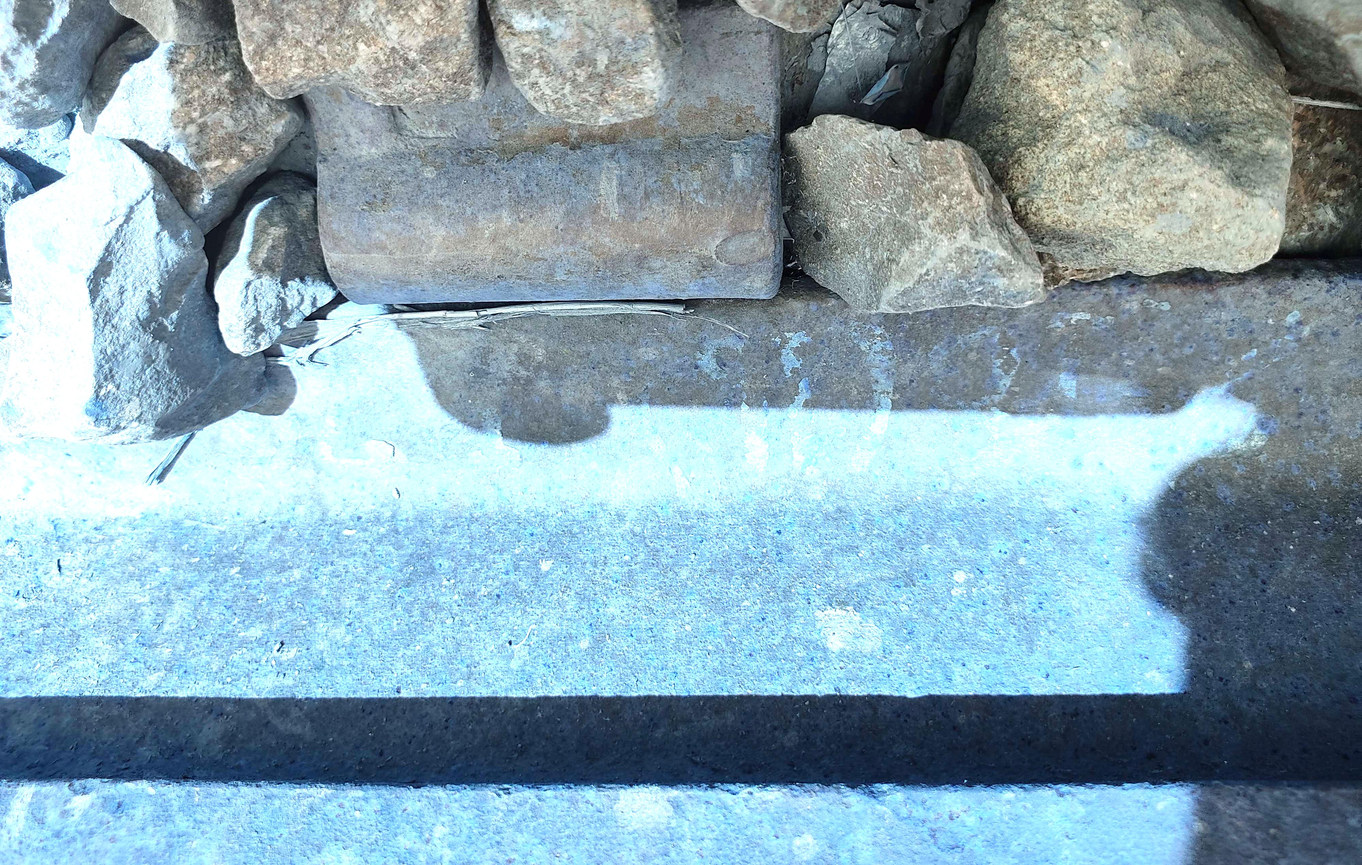loss: (300, 44, 804, 326)
